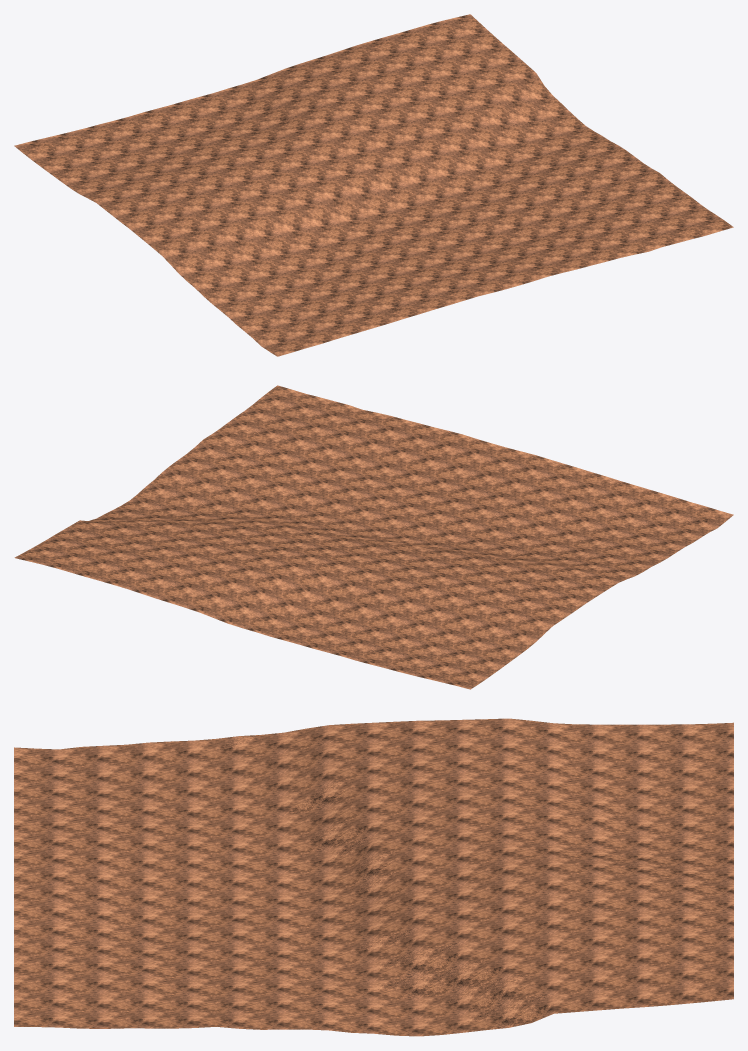
The model's file is terrain_11_19.dae.
The picture shows the model from 3 angles, top to bottom: view 1: azimuth 30°, elevation 25°; view 2: azimuth 150°, elevation 25°; view 3: azimuth 270°, elevation 25°; orthographic projection. The views are drawn at different scales.
Parts seen in each view (by area): view 1: terrain_11_19-node; view 2: terrain_11_19-node; view 3: terrain_11_19-node.
Part boxes in pixels (bbox=[...]): terrain_11_19-node: bbox=[14, 14, 733, 356]; terrain_11_19-node: bbox=[14, 385, 733, 689]; terrain_11_19-node: bbox=[14, 718, 733, 1036].
Size of the model in its own units: 128 by 128 by 10.73.
Materials: 1 (1 with a texture image).
